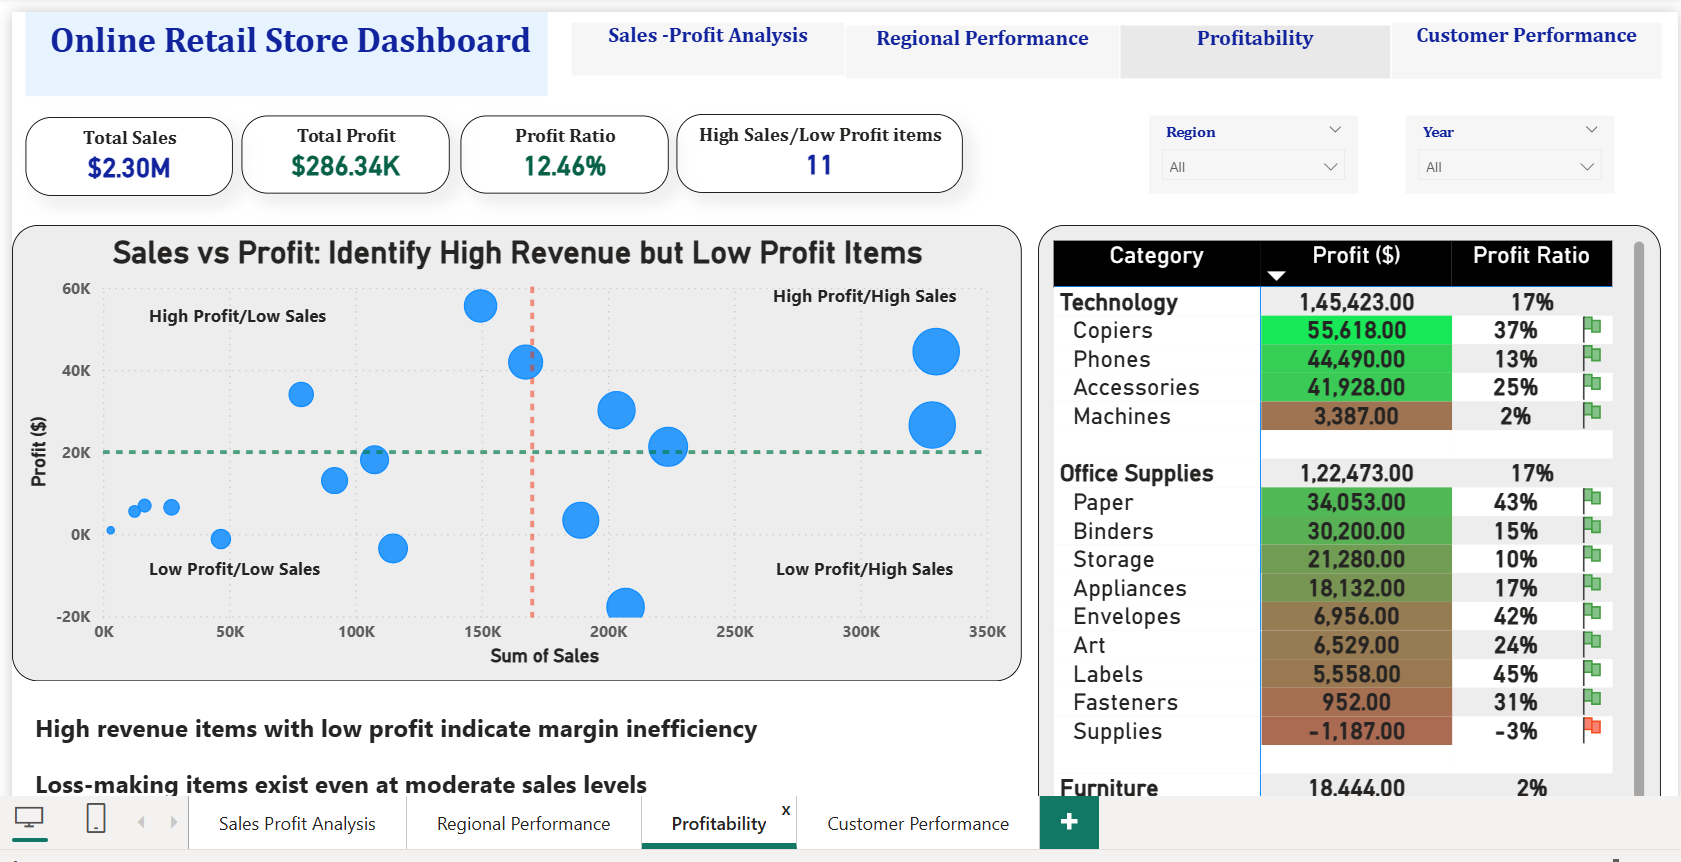

What the dashboard file says about the page in this screenshot:
{"tool":"powerbi","page":{"name":"Profitability","canvas":[1280,720],"ordinal":2},"visuals":[{"type":"textbox","box":[9.9,0,401.4,64.8],"z":0},{"type":"card","title":"Total Sales","fields":{"Values":["Sum(Orders.Sales)"]},"box":[9.9,80.3,159.2,60.6],"z":1000},{"type":"card","title":"Total Profit","fields":{"Values":["Sum(Orders.Profit)"]},"box":[176.6,79.1,160,60],"z":2000},{"type":"card","title":"Profit Ratio","fields":{"Values":["Orders.Profit Ratio"]},"box":[344.3,79.1,160,60],"z":3000},{"type":"card","title":"High Sales/Low Profit items","fields":{"Values":["Orders.High Sales Low Profit Count"]},"box":[511.3,78.9,219.7,60.6],"z":4000},{"type":"slicer","fields":{"Values":["Orders.Order Date.Variation.Date Hierarchy.Year"]},"box":[1071.2,79.6,160.6,59.7],"z":5000},{"type":"slicer","fields":{"Values":["Orders.Region"]},"box":[873.4,79.6,160.6,59.7],"z":6000},{"type":"actionButton","title":"Regional Performance","box":[640.8,9.9,209.9,40.8],"z":7000},{"type":"actionButton","title":"Profitability","box":[852.1,9.9,207,40.8],"z":8000},{"type":"actionButton","title":"Customer Performance","box":[1060.6,8.5,207,43.7],"z":9000},{"type":"actionButton","title":"Sales -Profit  Analysis","box":[429.6,8.5,209.9,40.8],"z":10000},{"type":"scatterChart","title":"Sales vs Profit: Identify High Revenue but Low Profit Items","fields":{"X":["Sum(Orders.Sales)"],"Y":["Orders.Profit ($)"],"Size":["Sum(Orders.Sales)"],"Category":["Orders.Sub-Category"]},"box":[0,163.4,776.1,350.7],"z":11000},{"type":"pivotTable","fields":{"Rows":["Orders.Category","Orders.Sub-Category"],"Values":["Orders.Total Profit","Orders.Profit Ratio"]},"box":[788.7,163.4,478.9,540.8],"z":12000},{"type":"textbox","box":[12.7,514.1,763.4,190.1],"z":13000},{"type":"textbox","box":[580.3,202.8,166.2,31],"z":14000},{"type":"textbox","box":[100,412.7,142.3,40.8],"z":15000},{"type":"textbox","box":[100,218.3,156.3,28.2],"z":16000},{"type":"textbox","box":[580.3,412.7,150.7,40.8],"z":17000}]}

Visuals, with their boxes on the page's 1280x720 design canvas (x1, y1, x2, y2). These are canvas units, not pixel positions in the 1681x862 screenshot, which may show the page scaled, cropped or inside an application window:
textbox: 10/0/411/65
"Total Sales" card: 10/80/169/141
"Total Profit" card: 177/79/337/139
"Profit Ratio" card: 344/79/504/139
"High Sales/Low Profit items" card: 511/79/731/140
slicer - Orders.Order Date.Variation.Date Hierarchy.Year: 1071/80/1232/139
slicer - Orders.Region: 873/80/1034/139
"Regional Performance" actionButton: 641/10/851/51
"Profitability" actionButton: 852/10/1059/51
"Customer Performance" actionButton: 1061/8/1268/52
"Sales -Profit  Analysis" actionButton: 430/8/640/49
"Sales vs Profit: Identify High Revenue but Low Profit Items" scatterChart: 0/163/776/514
pivotTable - Orders.Category x Orders.Sub-Category: 789/163/1268/704
textbox: 13/514/776/704
textbox: 580/203/746/234
textbox: 100/413/242/454
textbox: 100/218/256/246
textbox: 580/413/731/454
